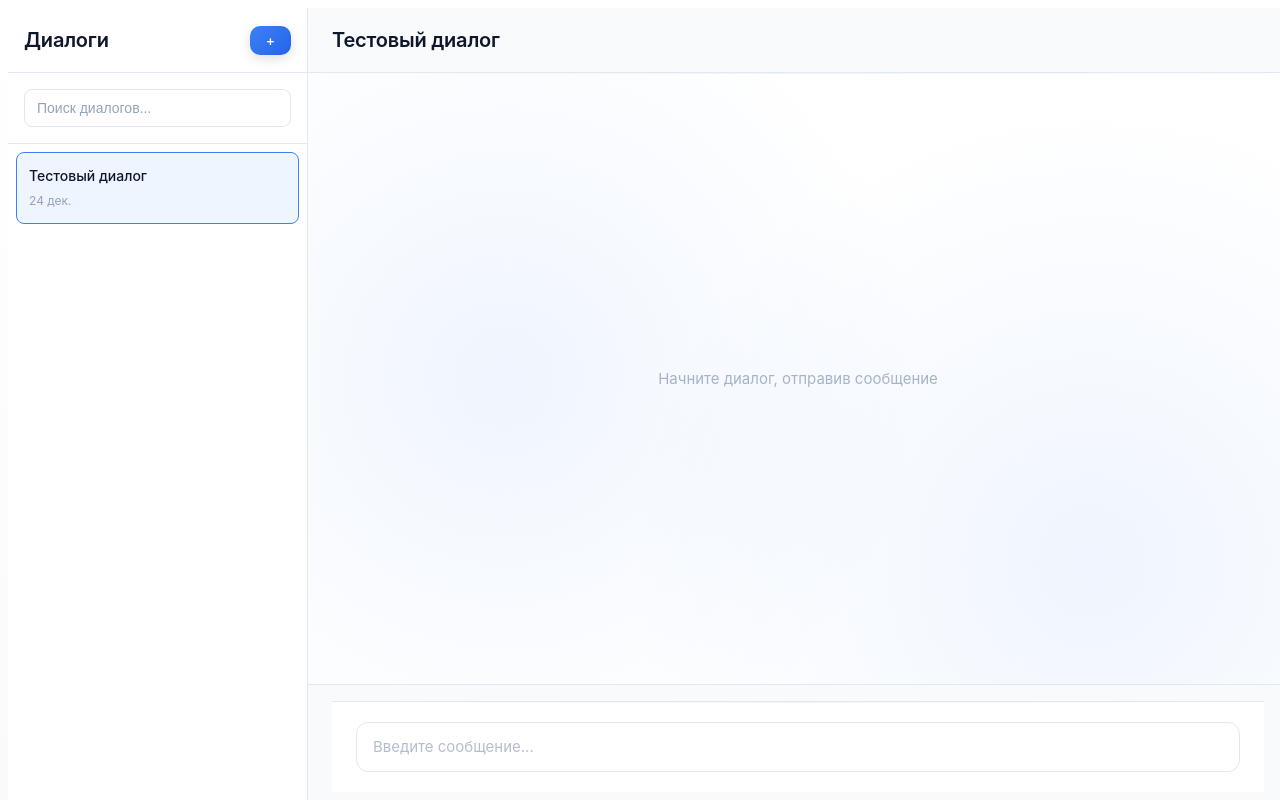
Scenario: ChatPage тесты › Тест 2: Отправка сообщения › должно отправляться сообщение
Expected: the text "Тестовый диалог" is shown, x1=29 y1=167 x2=147 y2=184
Type "Привет" into the text box with placeholder "Введите сообщение...". click: (798, 747)
box: x1=356 y1=722 x2=1240 y2=772
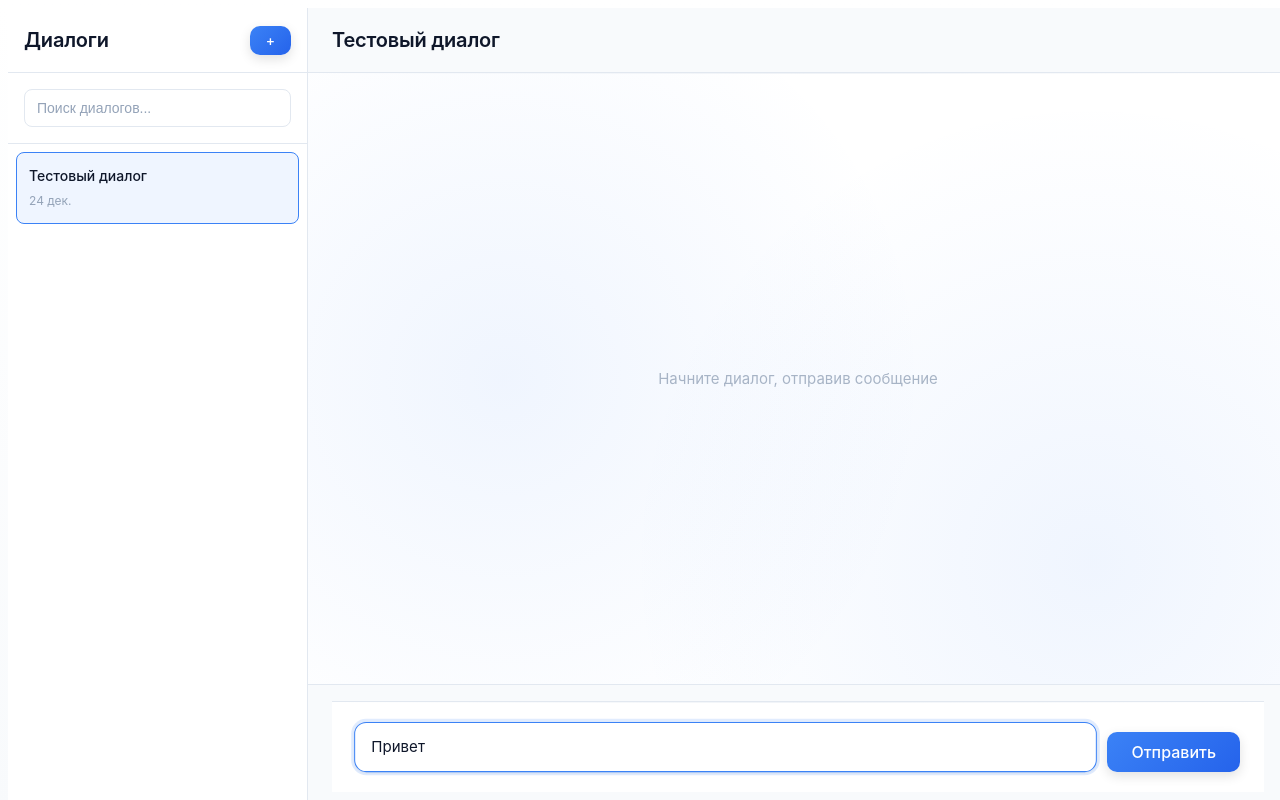
Click the button "Отправить". click: (1174, 752)
box: x1=1108 y1=732 x2=1240 y2=772
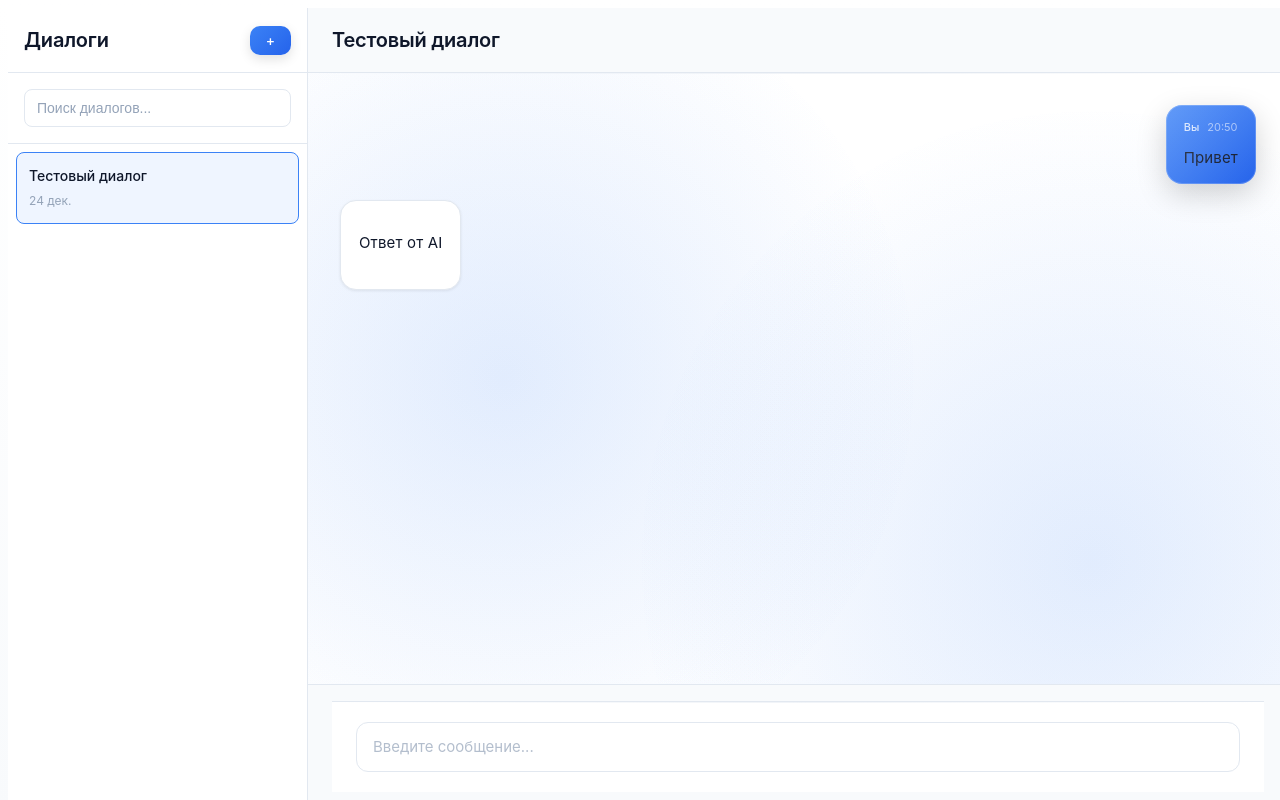
Now the text "Привет" is shown, box x1=1184 y1=145 x2=1238 y2=170
Now the text "Ответ от AI" is shown, box x1=359 y1=230 x2=442 y2=256
